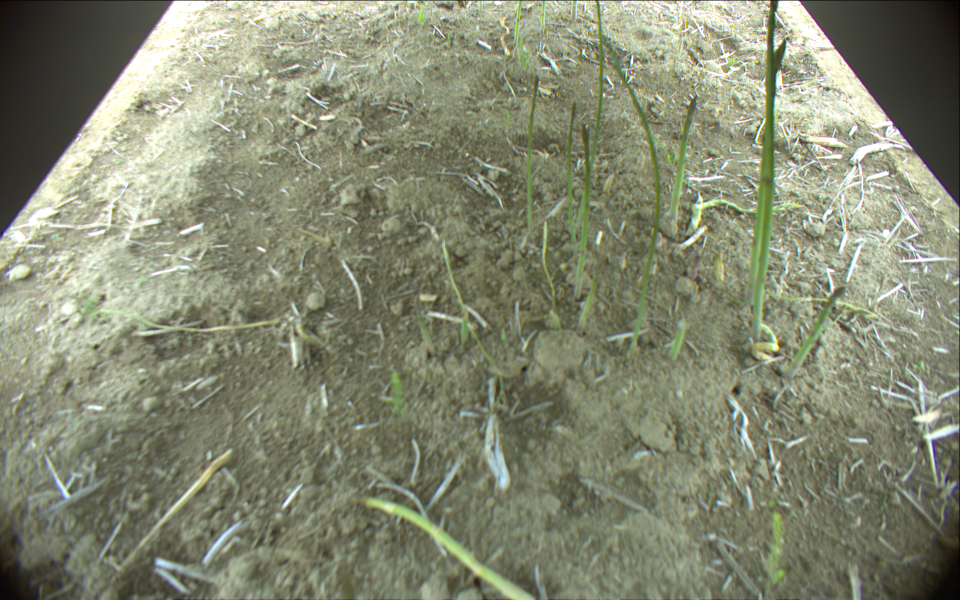aspa: (600, 33, 662, 352), (361, 497, 536, 600), (742, 40, 786, 306), (749, 1, 779, 344), (576, 1, 604, 230), (782, 286, 845, 381), (574, 125, 600, 299), (693, 197, 806, 232), (669, 95, 697, 221), (526, 76, 541, 239), (566, 101, 578, 242), (578, 271, 599, 337), (668, 318, 686, 360), (512, 1, 524, 48), (540, 1, 546, 35), (571, 1, 577, 18), (479, 1, 482, 13)
